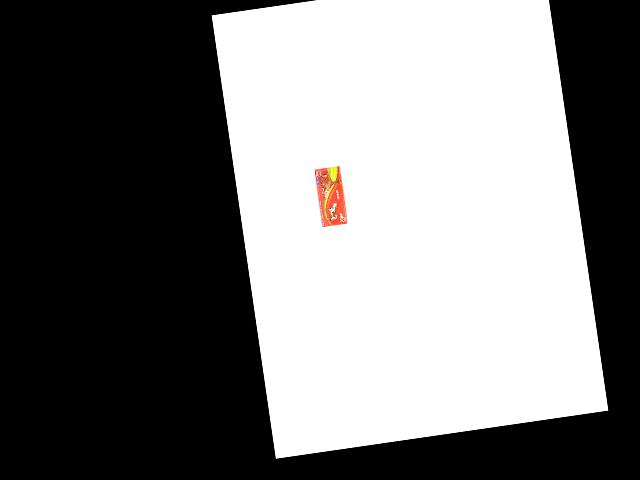chocolate: (308, 164, 350, 231)
